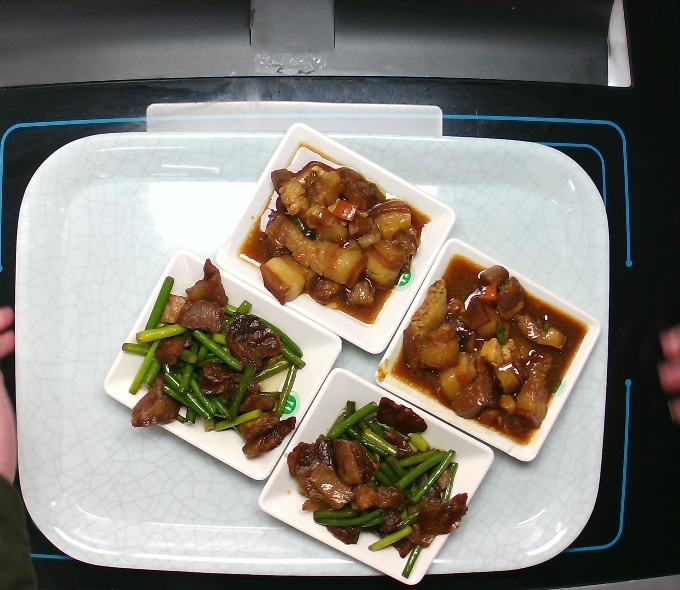wcq-HongShaoRou: (396, 262, 569, 436), (251, 151, 423, 319)
wcq-SuanMiaoChaoRou: (117, 254, 307, 461), (284, 392, 471, 581)
